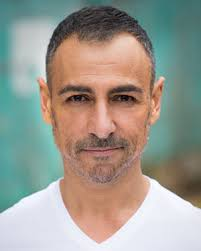middle_eastern_male: (43, 17, 168, 185)
